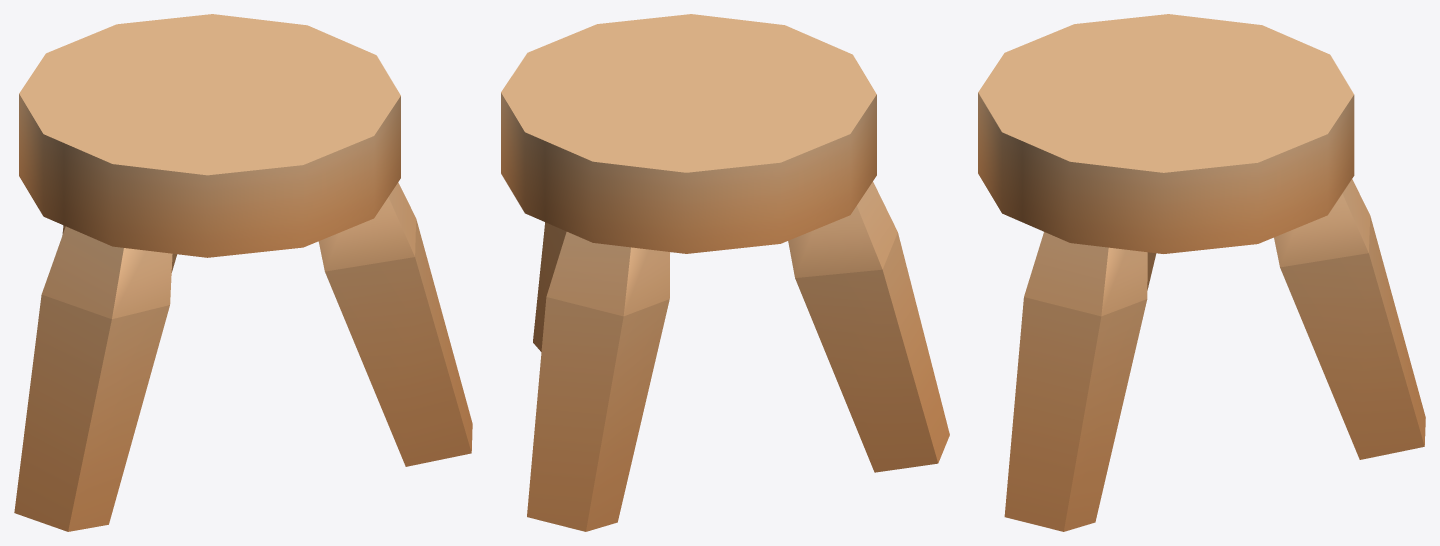
The model's file is SM_Stool.fbx.
3 views of the same model, side by side, from view 1: azimuth 30°, elevation 25°; view 2: azimuth 150°, elevation 25°; view 3: azimuth 270°, elevation 25° (orthographic).
Visible parts, largest first — view 1: SM_Stool; view 2: SM_Stool; view 3: SM_Stool.
Boxes of the visible parts, bbox=[...] form: SM_Stool: bbox=[14, 14, 472, 531]; SM_Stool: bbox=[501, 14, 949, 531]; SM_Stool: bbox=[978, 14, 1425, 531].
Size of the model in its own units: 1.99 by 1.56 by 1.8.
